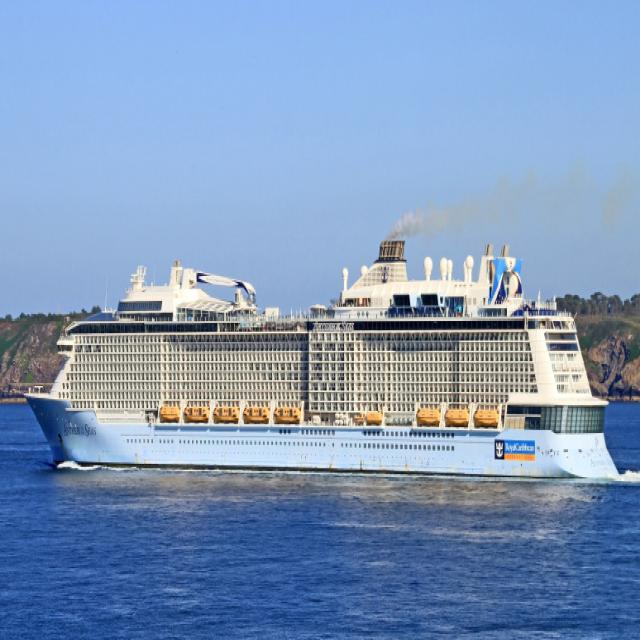cruises: (21, 234, 624, 493)
